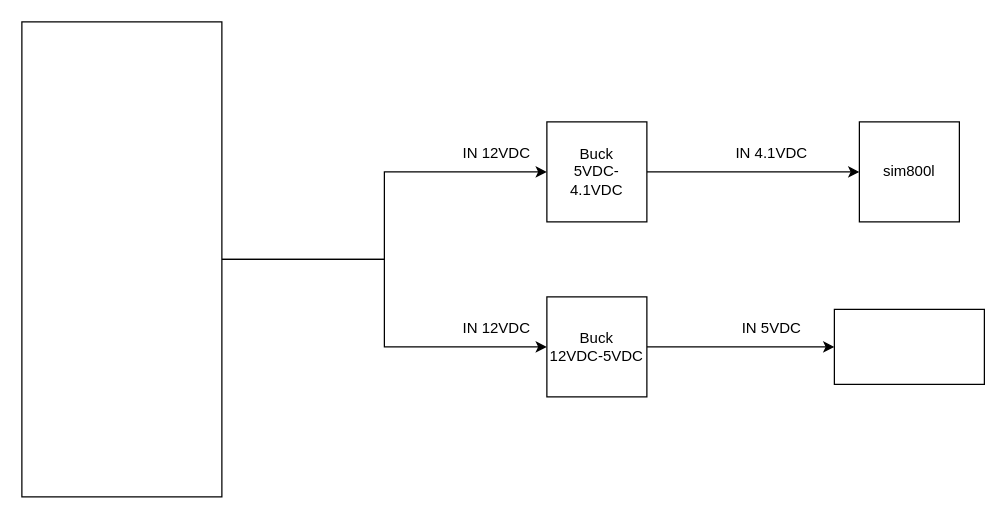
Some shapes in this 1006 by 519 pixel diagram are drawn without their labels. The centre of each missing label's shape, as x and y in pixels:
"ATmega328" goes at (908,346).
"PSU 220VAC 12VDC" goes at (121,259).
